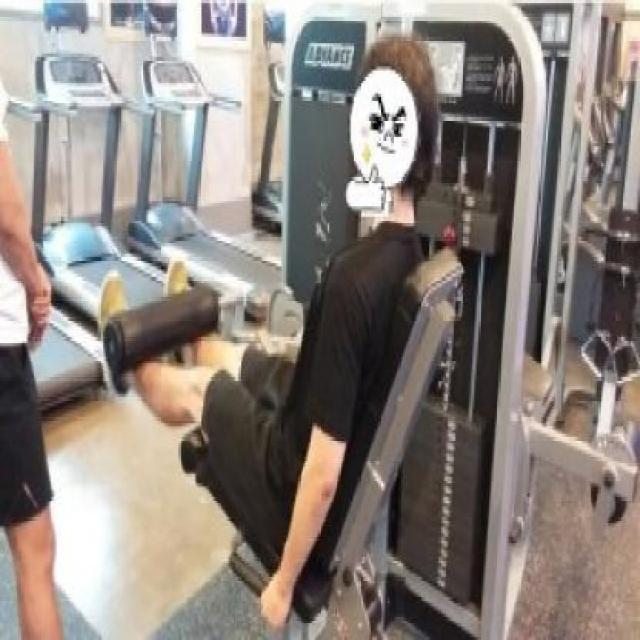leg extension: (94, 0, 561, 640)
